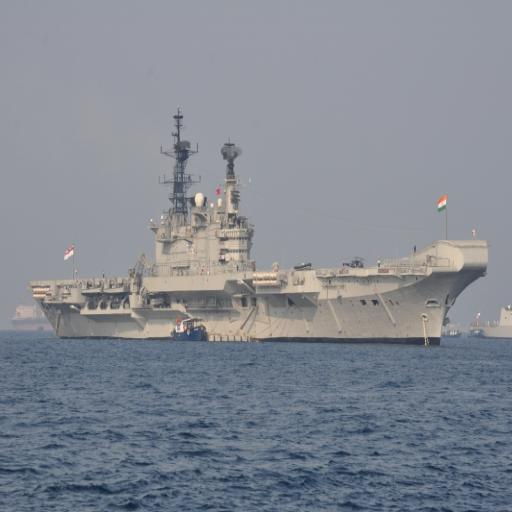Portanaves: (29, 107, 491, 351)
